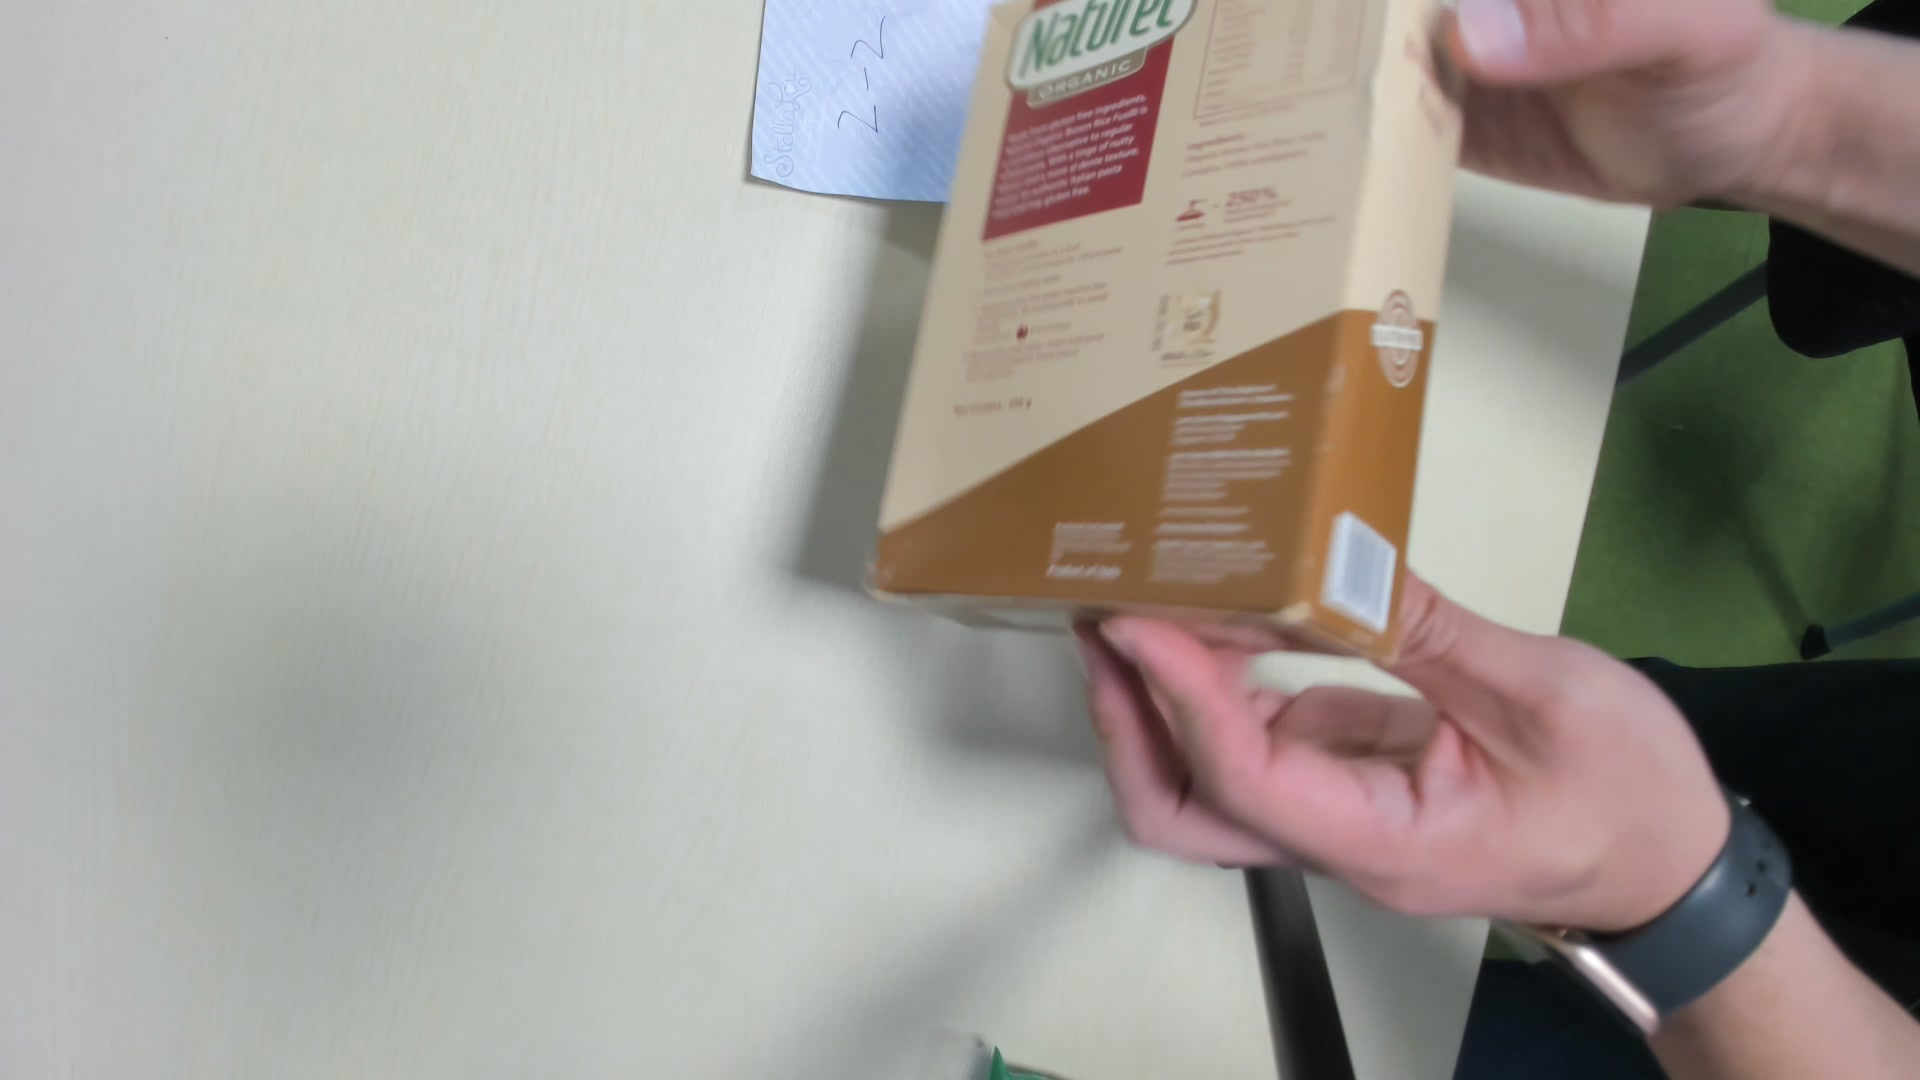Pasta_200-299g_Halal_Healthy: (873, 5, 1462, 654)
